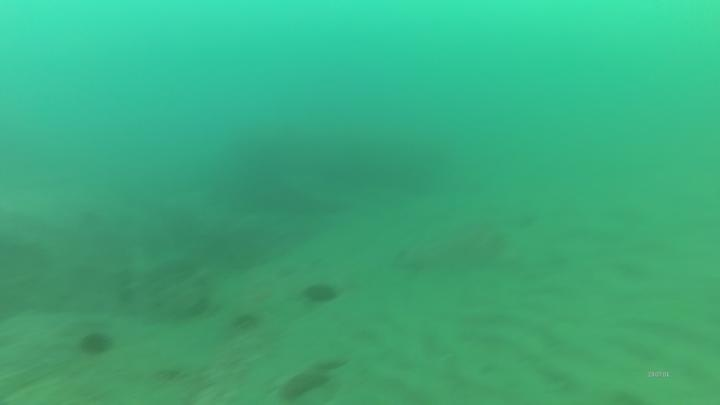echinus: (76, 328, 116, 360), (301, 279, 341, 309), (230, 309, 263, 334)
